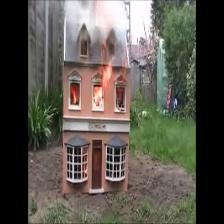fire: (93, 70, 111, 107), (68, 86, 79, 106)
